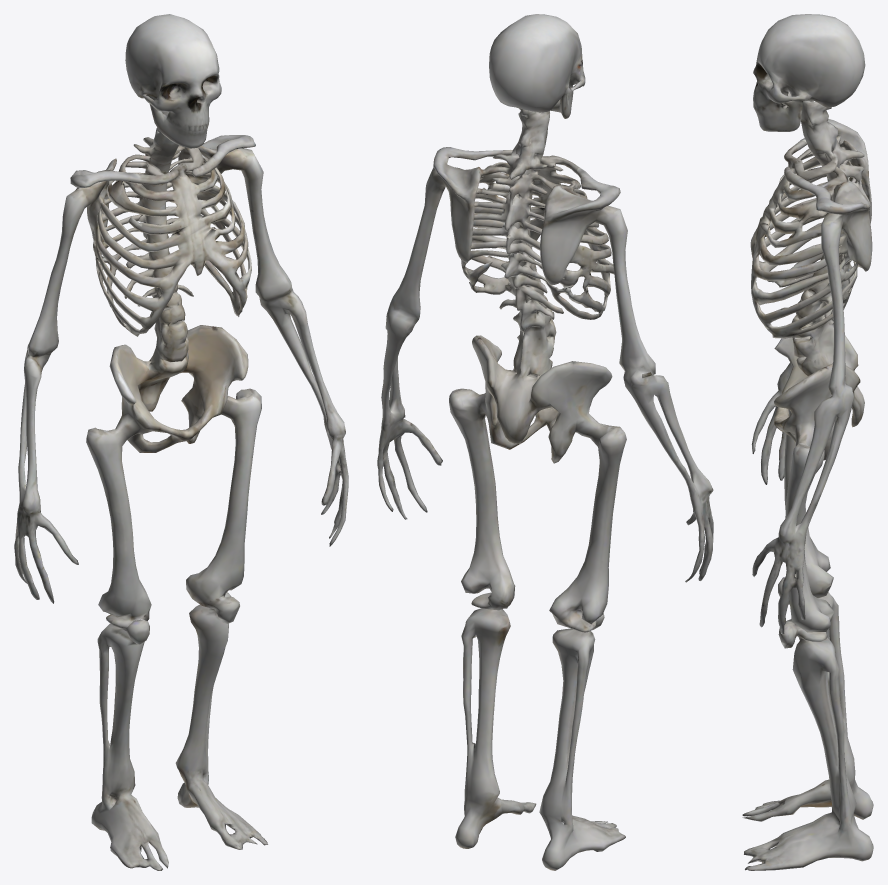
File: Anatomical_Skeleton.fbx
3 views of the same model, side by side, from view 1: azimuth 30°, elevation 25°; view 2: azimuth 150°, elevation 25°; view 3: azimuth 270°, elevation 25° (orthographic).
Parts seen in each view (by area): view 1: Mesh1_Mesh1.019; view 2: Mesh1_Mesh1.019; view 3: Mesh1_Mesh1.019.
Part boxes in pixels (x1=…): Mesh1_Mesh1.019: x1=14, y1=14, x2=348, y2=870; Mesh1_Mesh1.019: x1=377, y1=14, x2=713, y2=870; Mesh1_Mesh1.019: x1=742, y1=14, x2=873, y2=870.
Size of the model in its own units: 84.15 by 200 by 29.01.
Materials: 1 (1 with a texture image).
